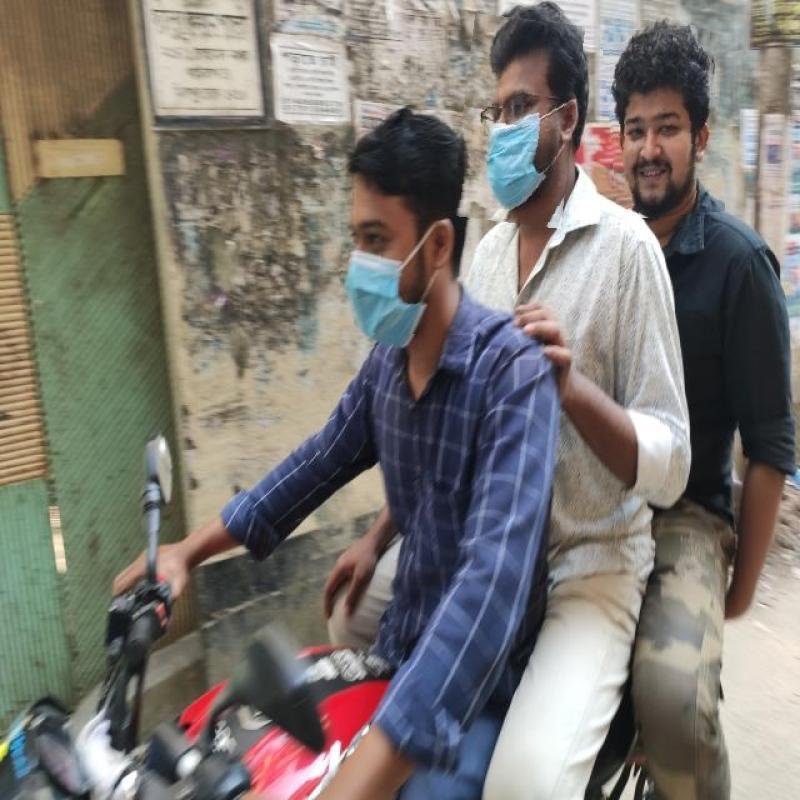nohelmet: (340, 104, 478, 335), (456, 16, 579, 226), (606, 26, 722, 218)
